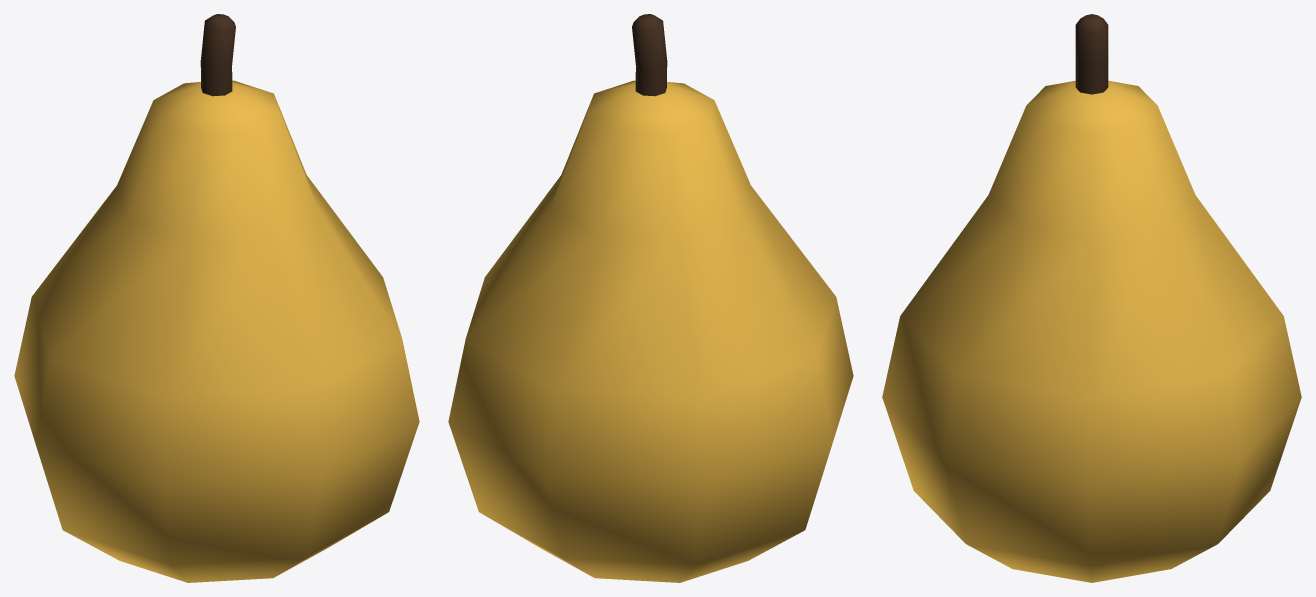
File: Pear_01.fbx
The picture shows the model from 3 angles, left to right: view 1: azimuth 30°, elevation 25°; view 2: azimuth 150°, elevation 25°; view 3: azimuth 270°, elevation 25°; orthographic projection.
Parts seen in each view (by area): view 1: Pear_01; view 2: Pear_01; view 3: Pear_01.
Part boxes in pixels (x1,y1,x2,y2): Pear_01: (14,14,419,582); Pear_01: (448,14,853,582); Pear_01: (882,14,1301,582).
Size of the model in its own units: 0.1956 by 0.2718 by 0.1956.
